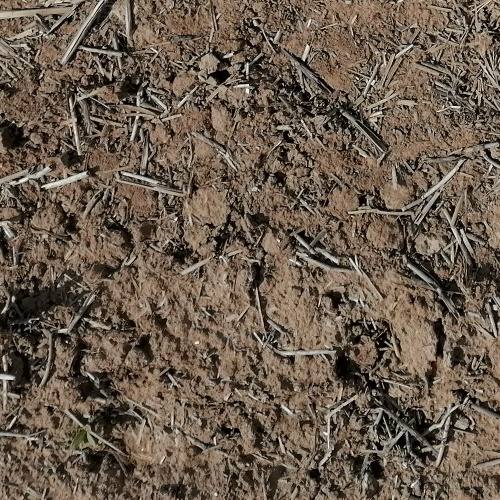beet: (69, 423, 91, 454)
